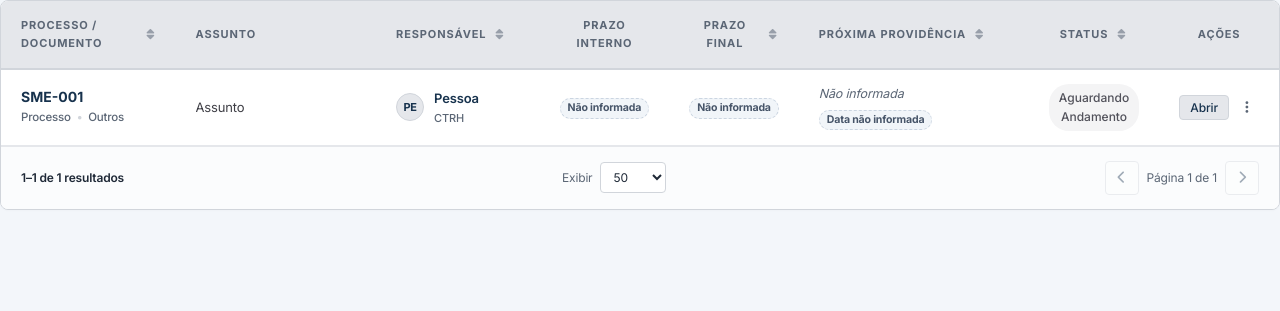
DemandasTable › mantém o rótulo das ações coerente com o comportamento da tabela
What coordinates should you click on to do the following:
click the button "Abrir"
I would click on:
 (1204, 107)
Its box is [1179,95,1229,120].
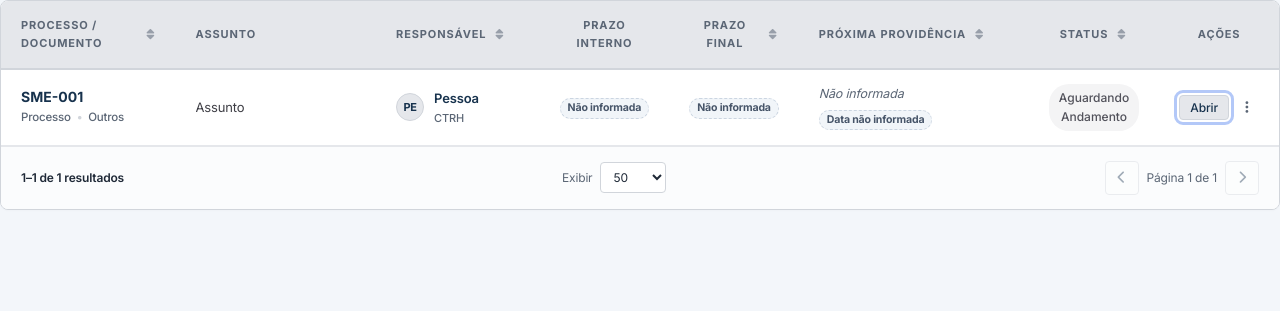
What coordinates should you click on to do the following:
click the button named "mais ações da demanda sme-001"
I would click on:
 (1247, 107)
Its box is [1235,95,1259,119].
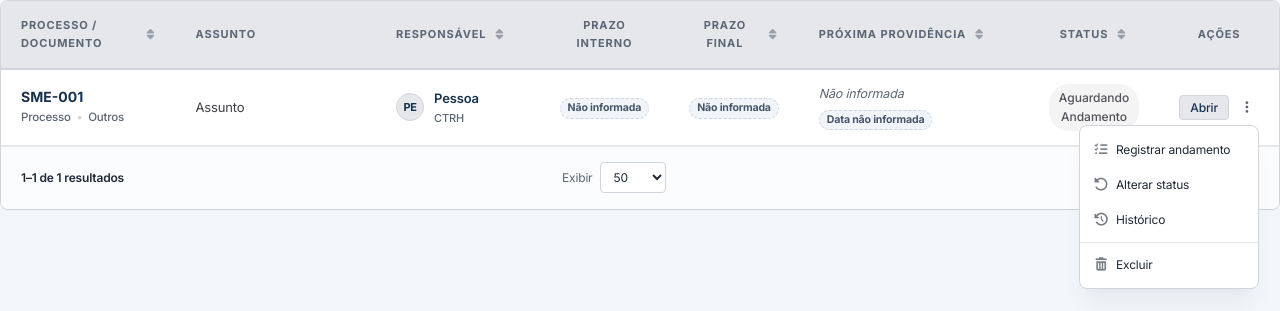
Expected: the menu item "Alterar status" is shown, [1094,177,1189,192]
Expected: the menu item "Histórico" is shown, [1094,212,1165,227]
Expected: the menu item "Excluir" is shown, [1094,257,1152,272]
